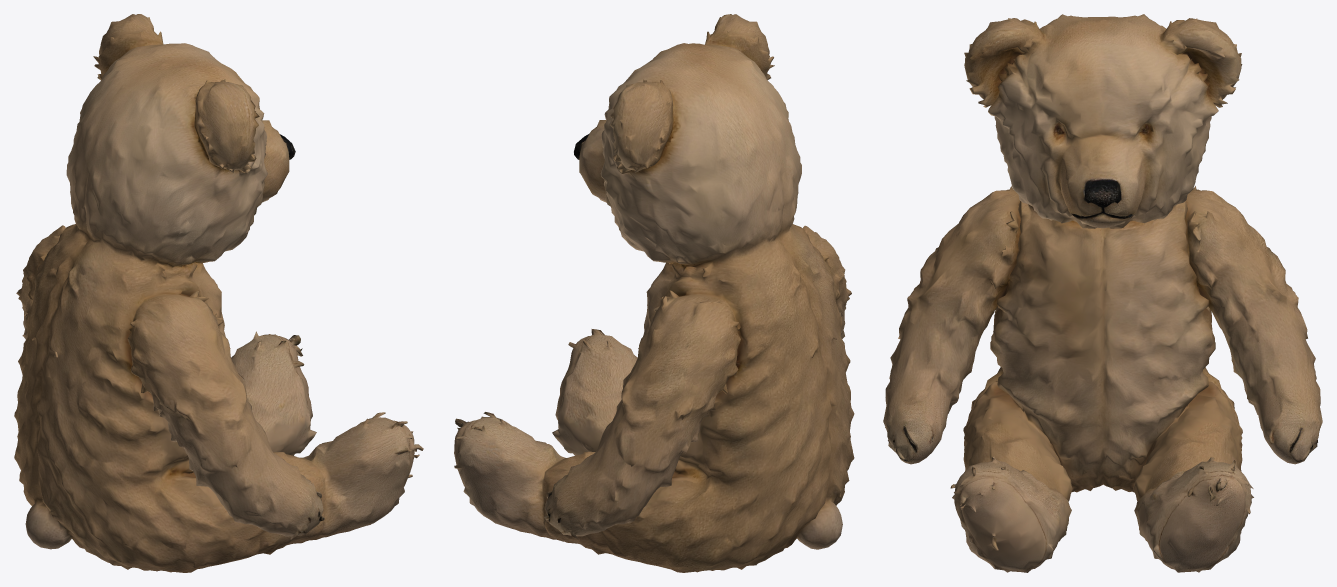
The model's file is teddy.glb.
The picture shows the model from 3 angles, left to right: view 1: azimuth 30°, elevation 25°; view 2: azimuth 150°, elevation 25°; view 3: azimuth 270°, elevation 25°; orthographic projection. The views are drawn at different scales.
Parts seen in each view (by area): view 1: tripo_node_50c2f05a-4db1-46c7-b7d3-6f79e78401a9; view 2: tripo_node_50c2f05a-4db1-46c7-b7d3-6f79e78401a9; view 3: tripo_node_50c2f05a-4db1-46c7-b7d3-6f79e78401a9.
Part boxes in pixels (x1=…): tripo_node_50c2f05a-4db1-46c7-b7d3-6f79e78401a9: x1=14, y1=14, x2=423, y2=572; tripo_node_50c2f05a-4db1-46c7-b7d3-6f79e78401a9: x1=454, y1=14, x2=854, y2=572; tripo_node_50c2f05a-4db1-46c7-b7d3-6f79e78401a9: x1=883, y1=14, x2=1322, y2=572.
Size of the model in its own units: 0.7288 by 1 by 0.8174.
Materials: 1 (1 with a texture image).
